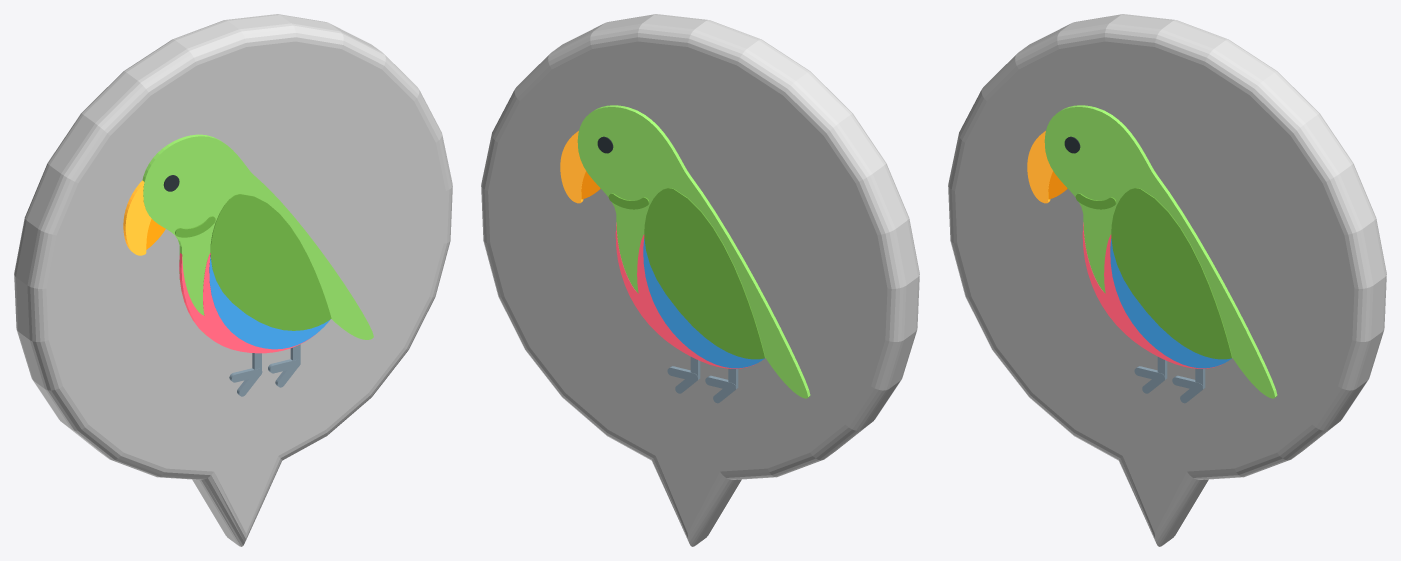
The model's file is parrot.glb.
3 views of the same model, side by side, from view 1: azimuth 30°, elevation 25°; view 2: azimuth 150°, elevation 25°; view 3: azimuth 330°, elevation 25° (orthographic).
Parts seen in each view (by area): view 1: EmotionBubble; view 2: EmotionBubble; view 3: EmotionBubble.
Part boxes in pixels (x1,y1,x2,y2): EmotionBubble: (14, 14, 452, 546); EmotionBubble: (481, 14, 919, 546); EmotionBubble: (948, 14, 1386, 546).
Size of the model in its own units: 5.29 by 6.16 by 0.736.
